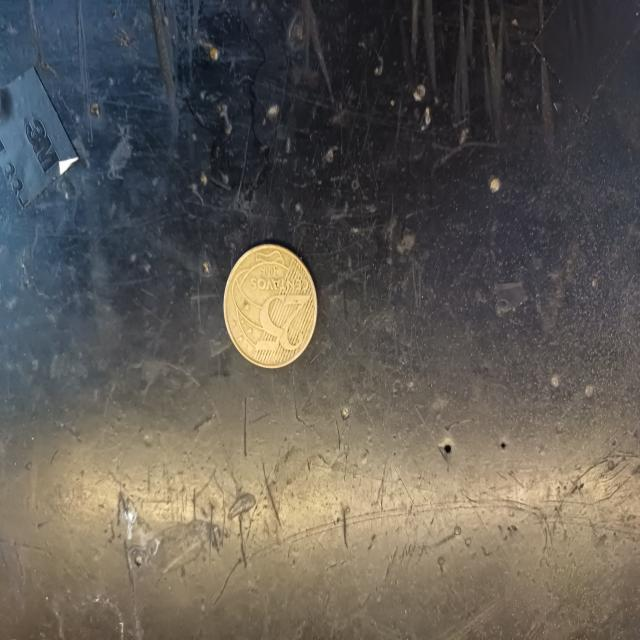25 cents: (226, 242, 319, 372)
